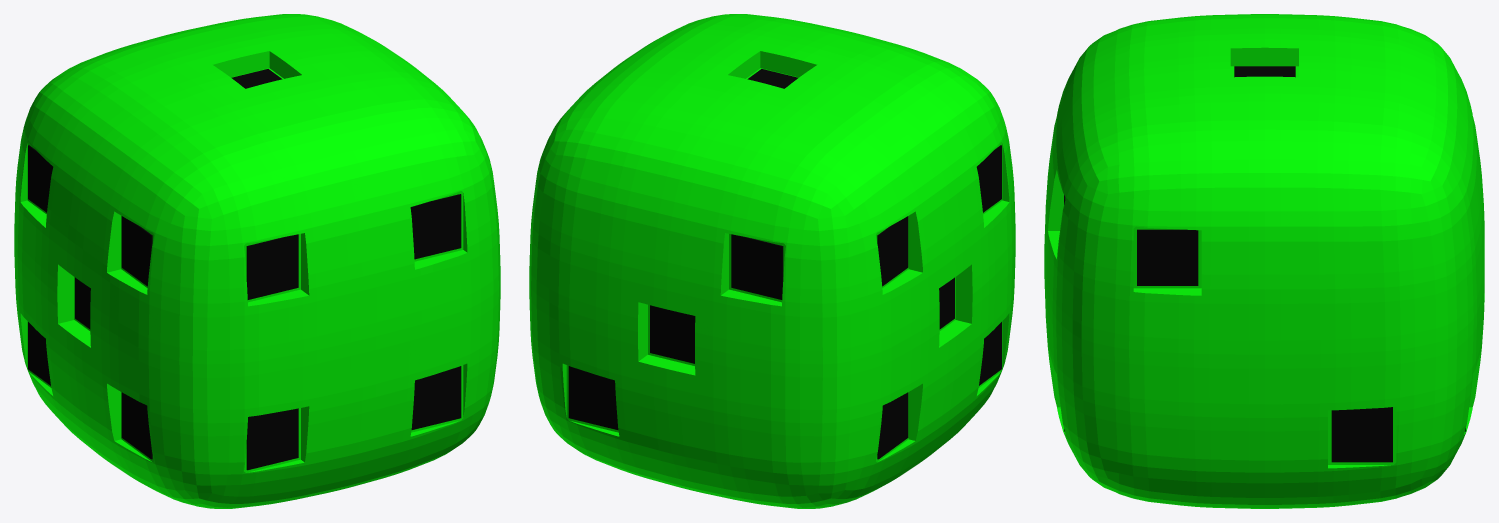
The model's file is 6_growing_dice_green.gltf.
3 views of the same model, side by side, from view 1: azimuth 30°, elevation 25°; view 2: azimuth 150°, elevation 25°; view 3: azimuth 270°, elevation 25° (orthographic). The views are drawn at different scales.
Parts seen in each view (by area): view 1: D6_Dice_Green; view 2: D6_Dice_Green; view 3: D6_Dice_Green.
Part boxes in pixels (<box>): D6_Dice_Green: <box>14,14,500,508</box>; D6_Dice_Green: <box>529,14,1015,508</box>; D6_Dice_Green: <box>1044,14,1484,508</box>.
Bounding box in the file's own units: 2.26 × 2.26 × 2.26.
